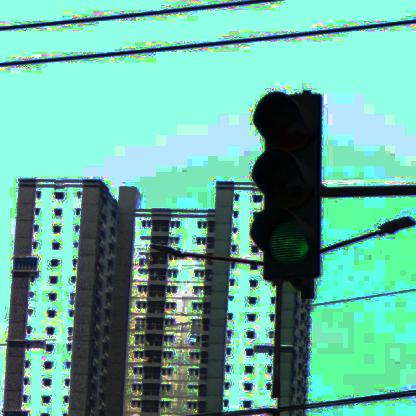Traffic Light -Green-: (252, 93, 323, 279)
